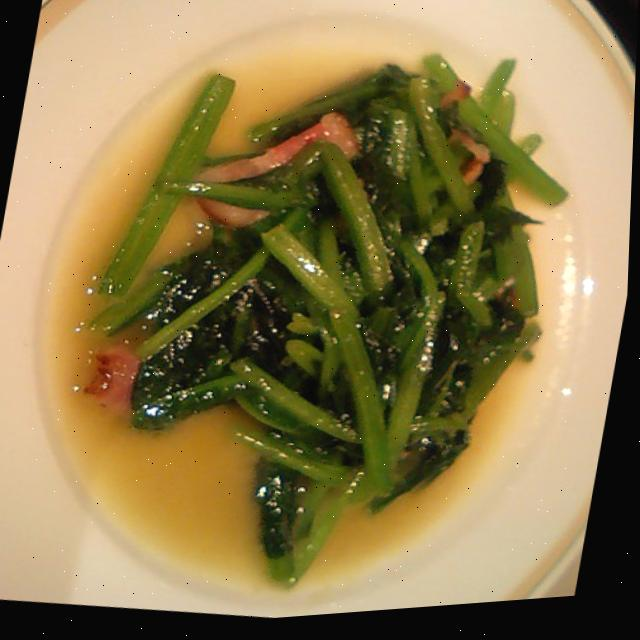蔬菜料理: (0, 0, 625, 639)
